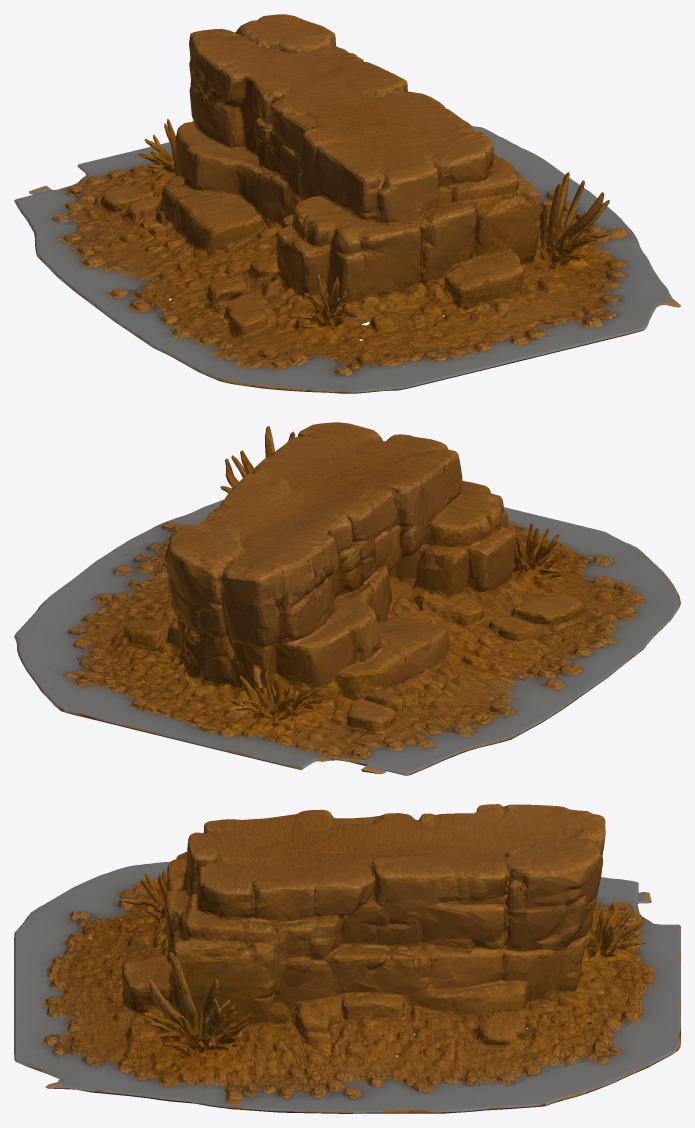
The model's file is desert-big-rock-4.glb.
The picture shows the model from 3 angles, top to bottom: view 1: azimuth 30°, elevation 25°; view 2: azimuth 150°, elevation 25°; view 3: azimuth 270°, elevation 25°; orthographic projection. The views are drawn at different scales.
Parts seen in each view (by area): view 1: textured_mesh.obj; view 2: textured_mesh.obj; view 3: textured_mesh.obj.
Boxes of the visible parts, <box> form: textured_mesh.obj: <box>14,14,680,393</box>; textured_mesh.obj: <box>14,422,680,775</box>; textured_mesh.obj: <box>14,804,680,1113</box>.
Bounding box in the file's own units: 1.81 × 0.5238 × 1.99.
Materials: 1 (1 with a texture image).
